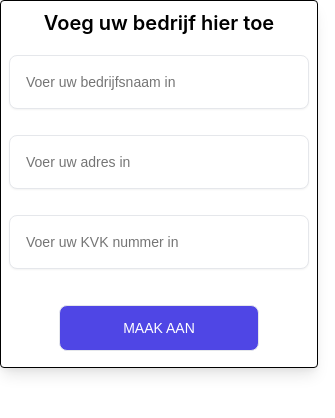
Test: CreateCompany › renders CreateCompany form and submits data
Note: Fill out the form
Type "Test Company" into the field with placeholder "Voer uw bedrijfsnaam in" at (159, 82), box [9, 55, 309, 109]
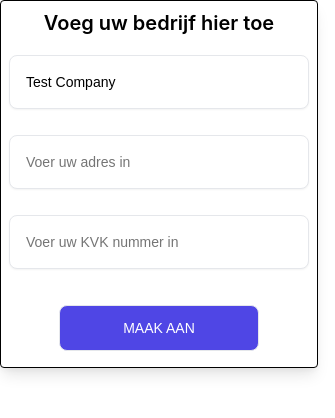
Type "Test Adress" into the field with placeholder "Voer uw adres in" at (159, 162), box [9, 135, 309, 189]
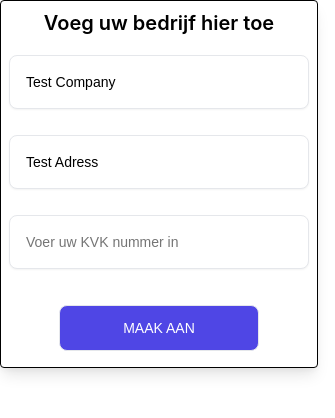
Type "12345678" into the field with placeholder "Voer uw KVK nummer in" at (159, 242), box [9, 215, 309, 269]
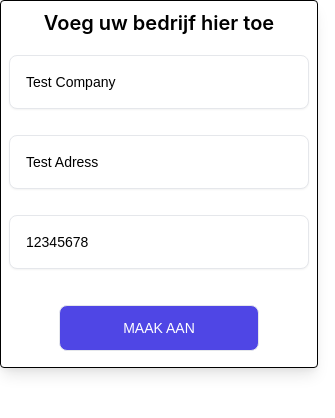
Note: Submit the form
Click the button "Maak aan" at (159, 328), box [59, 305, 259, 351]
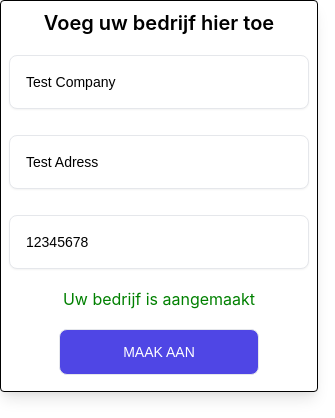
Now the text "Uw bedrijf is aangemaakt" is shown, box [63, 287, 255, 311]
